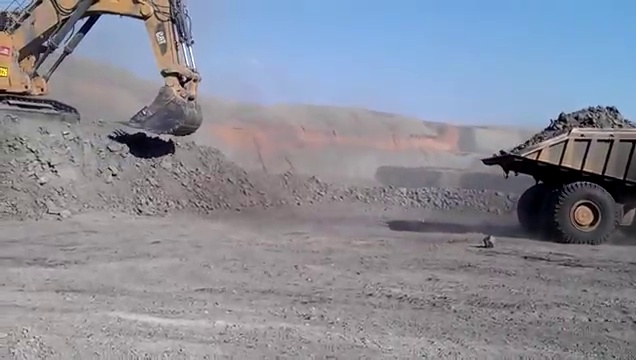dumper: (482, 118, 635, 246)
excavator: (2, 2, 202, 137)
